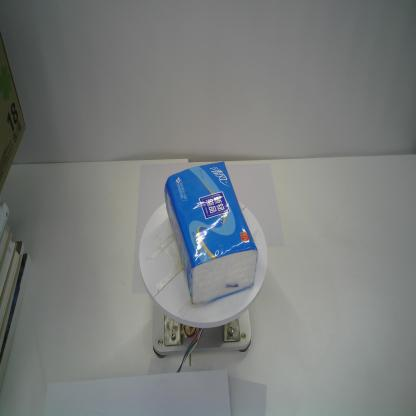Tissue: (163, 159, 259, 307)
